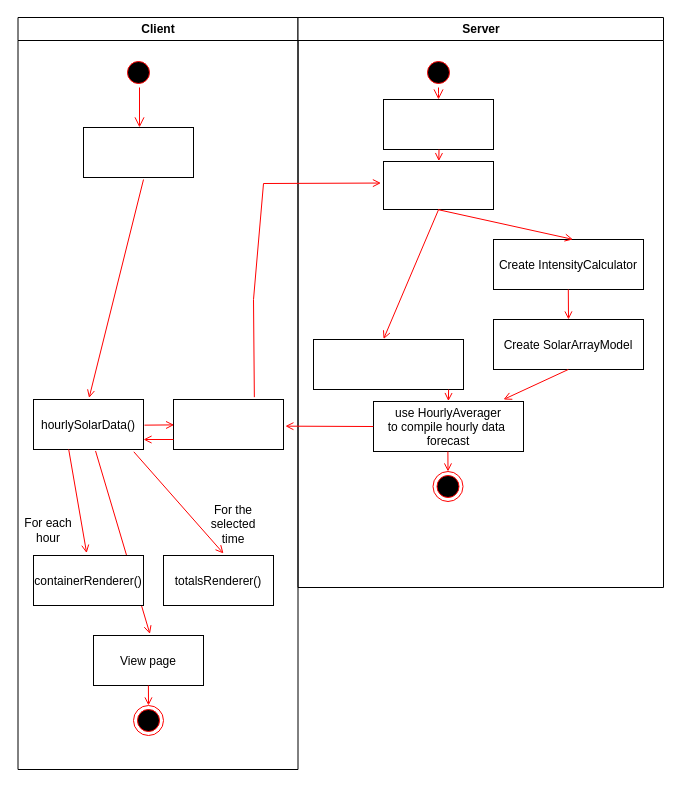
Image size: 681x787. Some labels were removed from this diagram. The shapes that lost their labels are listed below. From the top down, each one's centre as x and y in pixels, then its label:
At [438,124]: "idle".
At [138,152]: "Page Load".
At [438,185]: "recieve /api/solar call".
At [388,364]: "use OpenWeather to call OpenWeatherAPI".
At [228,424]: "fetchSolarData()".
